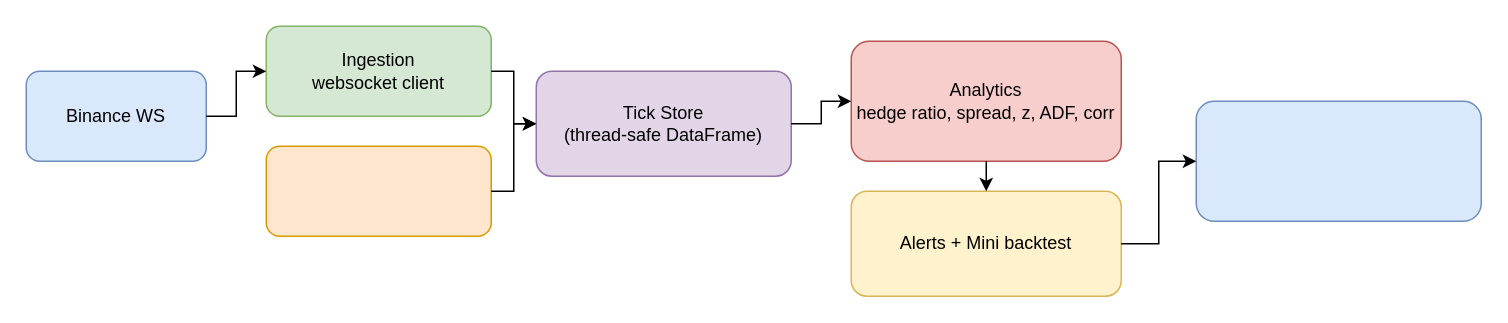
Some shapes in this 1508 by 323 pixel diagram are drawn without their labels. Each missing label, with the box of its shape:
Dash UI (charts, controls, exports): (1195, 100, 1481, 221)
Upload CSV/OHLC: (265, 145, 491, 236)
